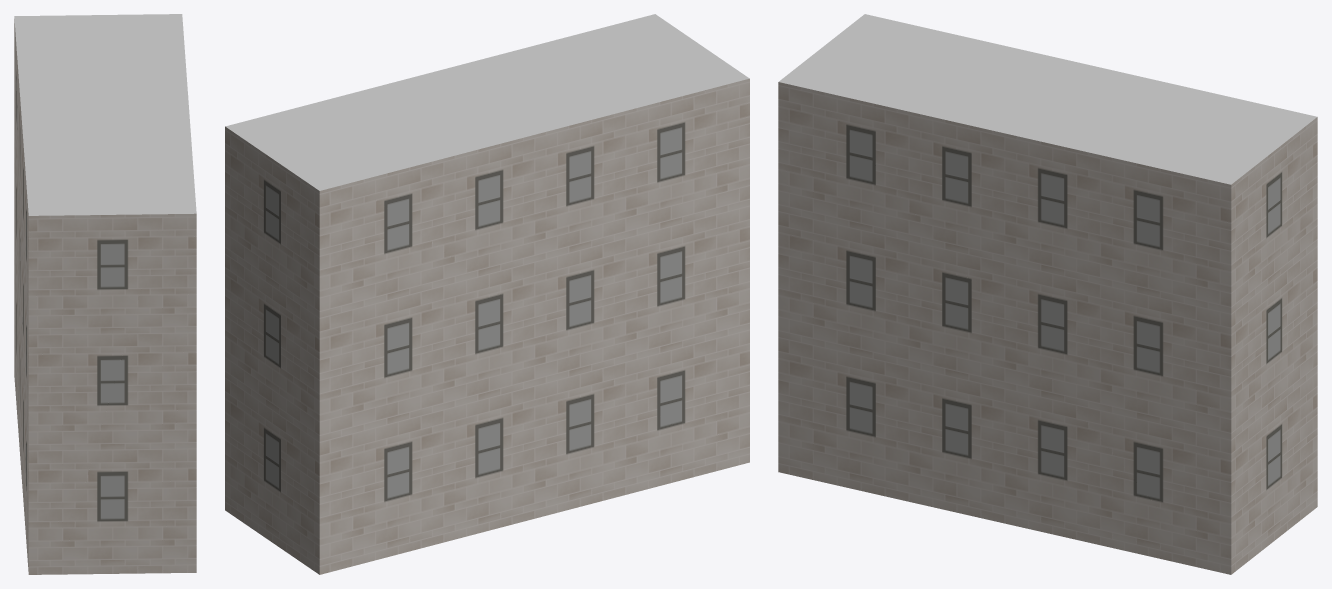
The model's file is building-1-0-140.dae.
The picture shows the model from 3 angles, left to right: view 1: azimuth 30°, elevation 25°; view 2: azimuth 150°, elevation 25°; view 3: azimuth 270°, elevation 25°; orthographic projection. The views are drawn at different scales.
Visible parts, largest first — view 1: geopipeinodefReobINs (×3); view 2: geopipeinodefReobINs (×3); view 3: geopipeinodefReobINs (×3).
Boxes of the visible parts, x1,y1,x2,y2 form: geopipeinodefReobINs (×3): (14, 14, 196, 574); geopipeinodefReobINs (×3): (225, 14, 749, 574); geopipeinodefReobINs (×3): (778, 14, 1317, 574).
Bounding box in the file's own units: 12.58 × 16.78 × 13.4.
